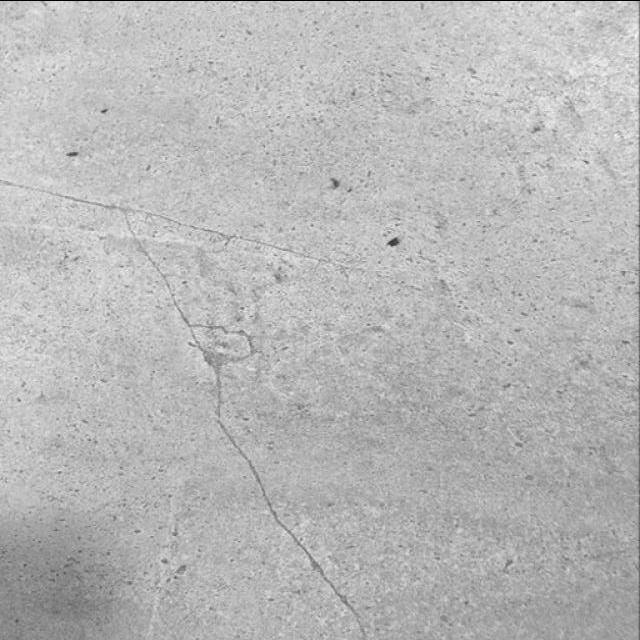SurfaceCrack: (2, 29, 409, 639)
